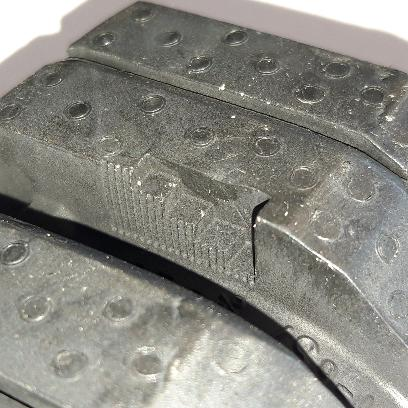temoin:100: (97, 148, 278, 298)
